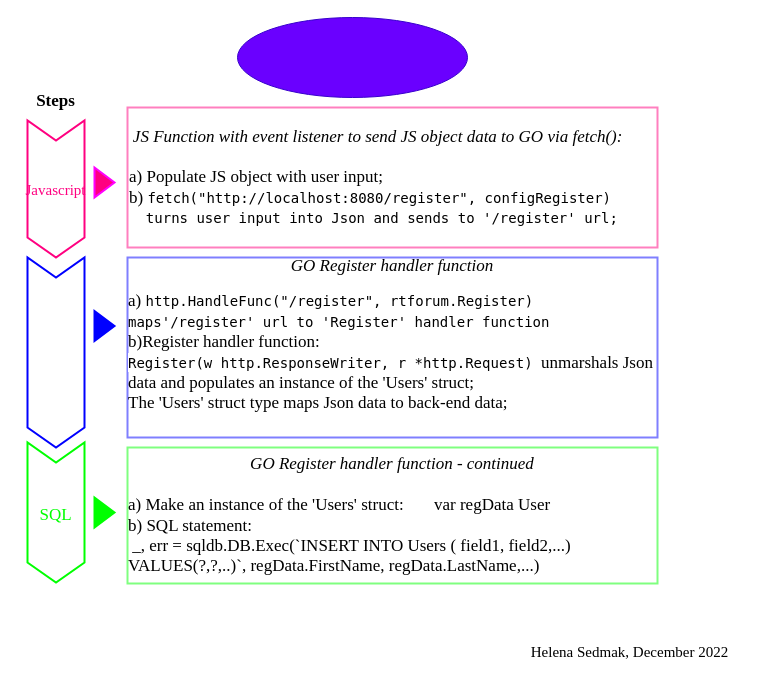
Some shapes in this 761 by 684 pixel diagram are drawn without their labels. Here are the shapes that lost their labels. From the top down, the centre of each, then its label:
At (x=352, y=57): "Steps to link Javascript front-end to Go back-end".
At (x=55, y=352): "GO".
